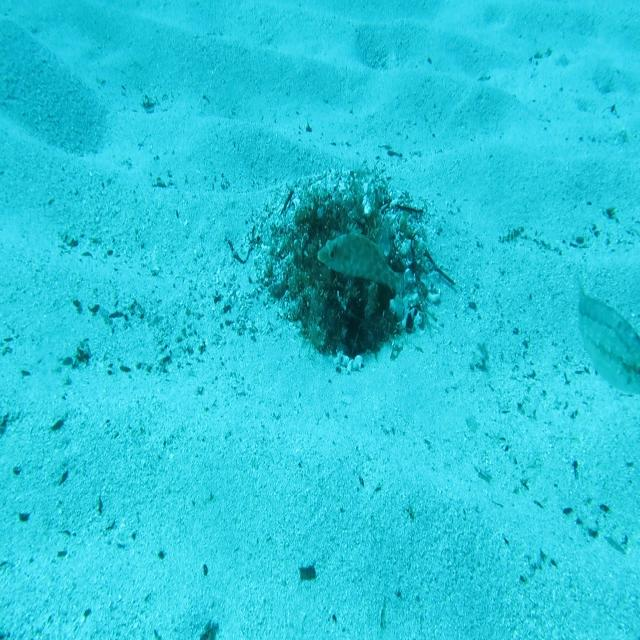LF: (315, 218, 416, 313)
core_nest: (315, 210, 358, 248)
female: (573, 268, 640, 402)
nest: (248, 150, 446, 388)
vegetation: (298, 563, 318, 582)
